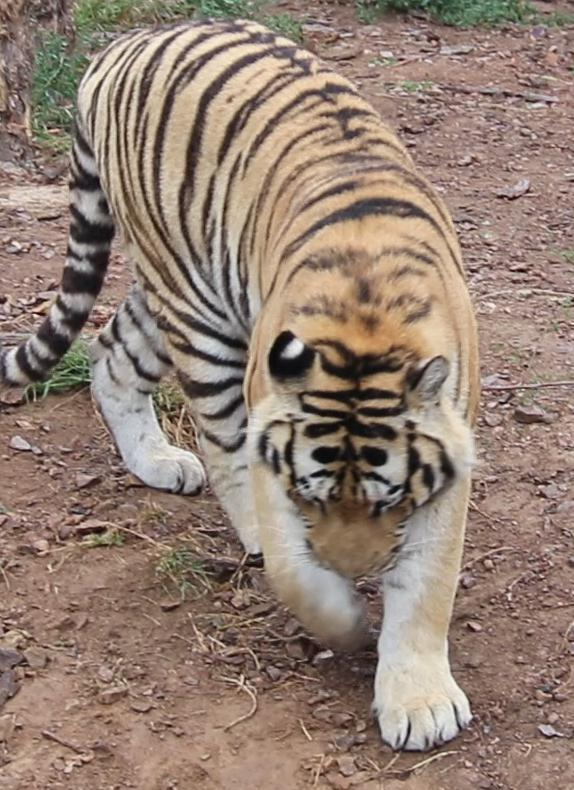tiger: (0, 22, 478, 749)
